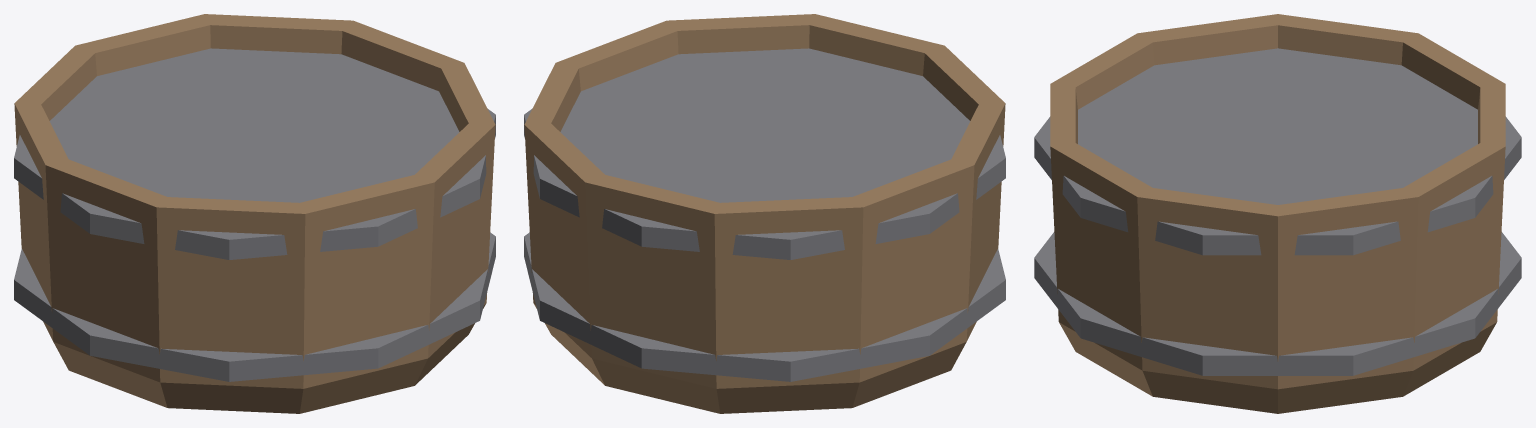
Rendered from prop-dye-vat-small.fbx.
3 renders of one model, left to right at view 1: azimuth 30°, elevation 25°; view 2: azimuth 150°, elevation 25°; view 3: azimuth 270°, elevation 25°, orthographic.
Parts seen in each view (by area): view 1: prop-dye-vat-small; view 2: prop-dye-vat-small; view 3: prop-dye-vat-small.
Boxes of the visible parts, x1,y1,x2,y2 form: prop-dye-vat-small: [14, 14, 495, 413]; prop-dye-vat-small: [524, 14, 1005, 413]; prop-dye-vat-small: [1034, 14, 1521, 413].
Bounding box in the file's own units: 54 × 26 × 55.
